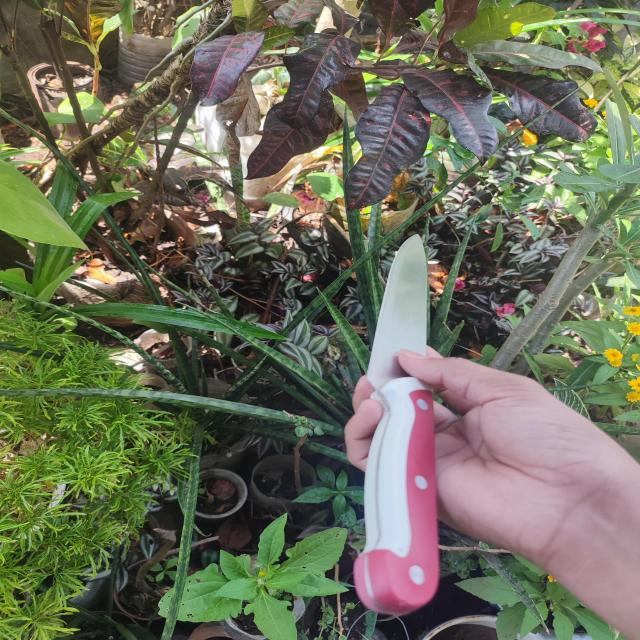knife: (354, 234, 442, 616)
